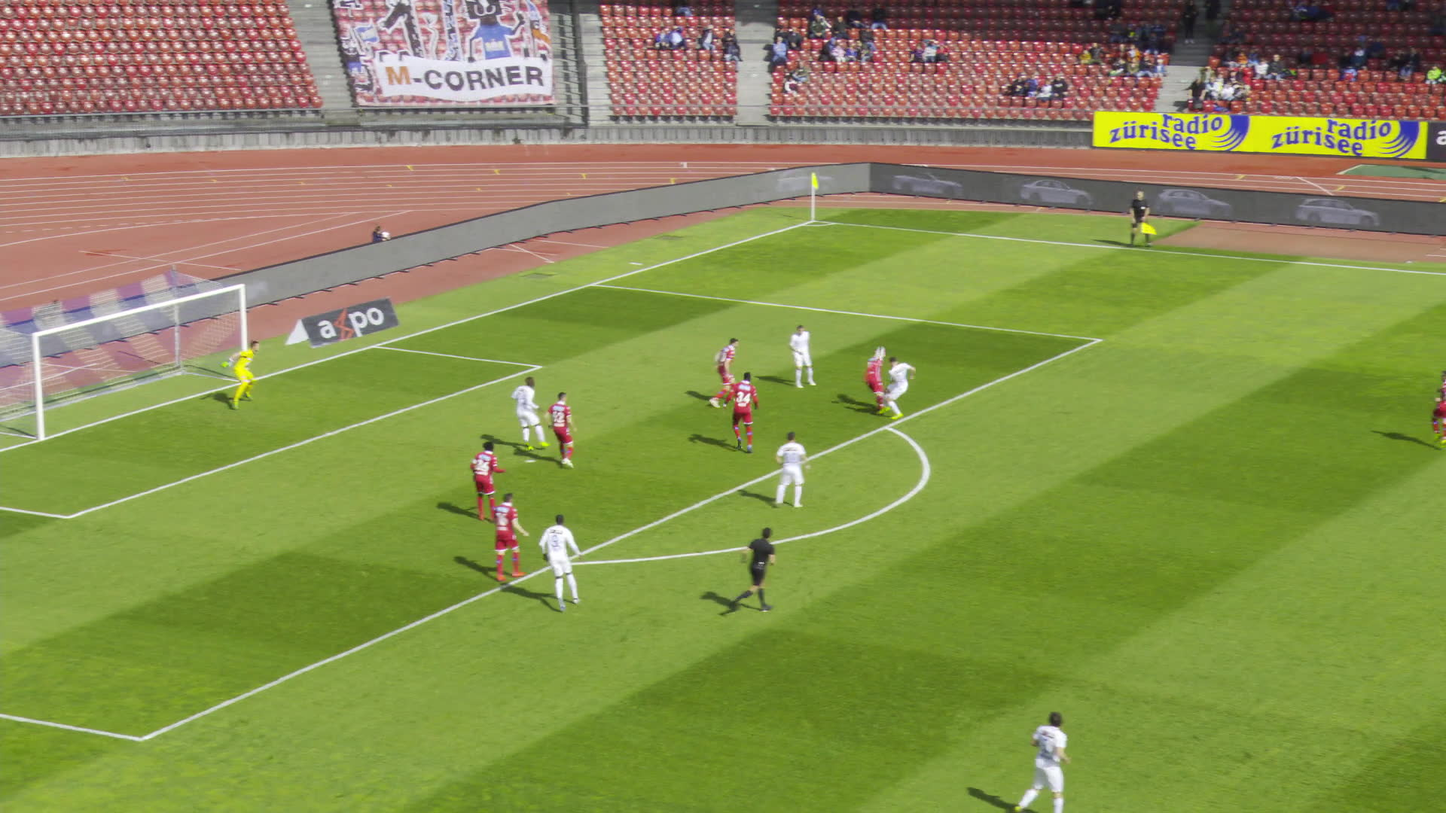ball: (884, 372, 898, 382)
player: (1014, 711, 1069, 812), (540, 514, 581, 611), (718, 373, 756, 452), (486, 493, 520, 580), (504, 376, 541, 452), (468, 441, 503, 520), (539, 393, 572, 469), (773, 431, 805, 507), (227, 342, 264, 407), (881, 358, 915, 420), (706, 339, 735, 409), (789, 324, 816, 387), (863, 346, 887, 413), (1431, 372, 1445, 446)
referee: (719, 525, 766, 615), (1126, 191, 1147, 247)
